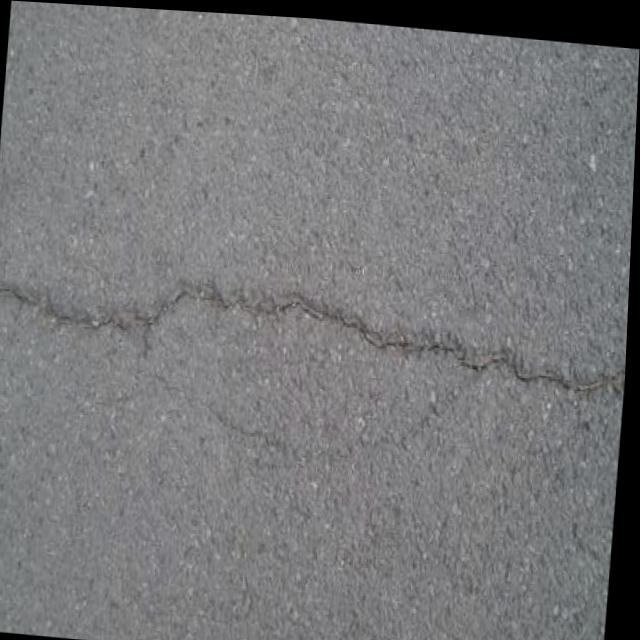Crack: (0, 245, 631, 409)
